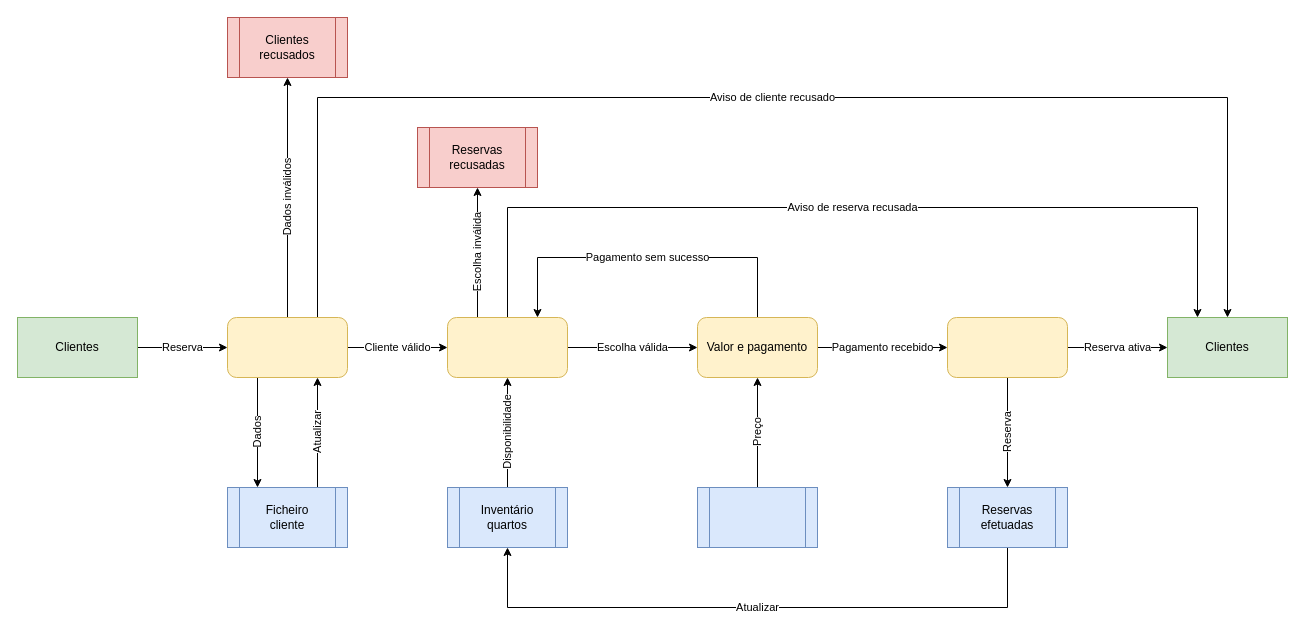
The diagram is 1305 pixels wide and 633 high, and some of its shapes have lost their labels. Here are the shapes that lost their labels. From the top down, the box of each, then its label:
(226, 316, 348, 378): Dados do cliente
(446, 316, 568, 378): Escolha de hotel
(946, 316, 1068, 378): Ativar reserva
(696, 486, 818, 548): Tabela de preços
